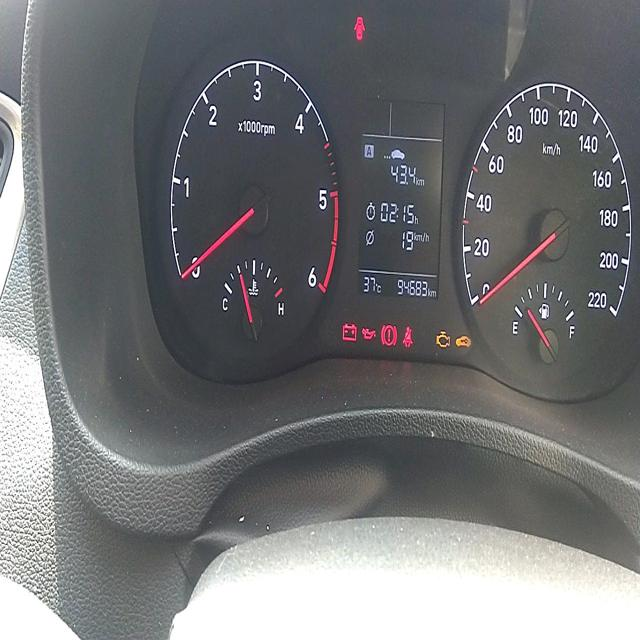odometer: (393, 275, 429, 303)
